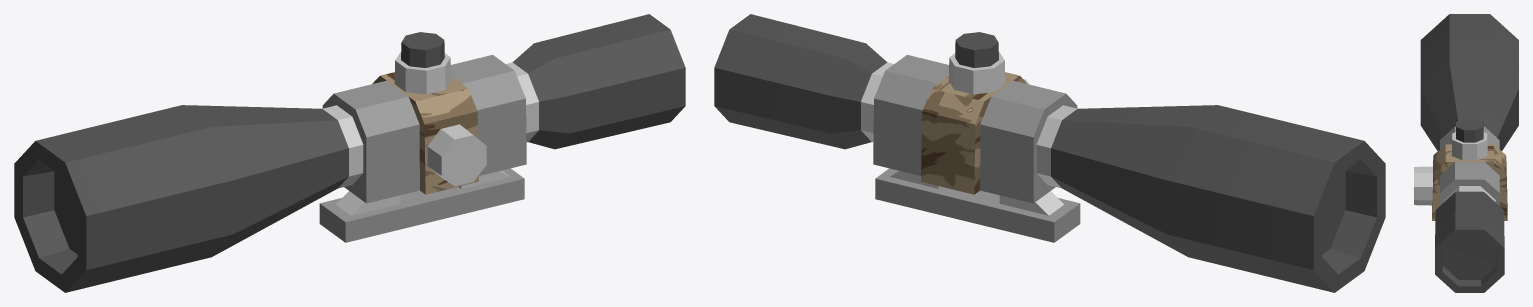
Rendered from SM_ScopeA.fbx.
3 views of the same model, side by side, from view 1: azimuth 30°, elevation 25°; view 2: azimuth 150°, elevation 25°; view 3: azimuth 270°, elevation 25° (orthographic). The views are drawn at different scales.
Parts seen in each view (by area): view 1: SM_ScopeA; view 2: SM_ScopeA; view 3: SM_ScopeA.
Part boxes in pixels (x1=…): SM_ScopeA: x1=14, y1=14, x2=685, y2=292; SM_ScopeA: x1=714, y1=14, x2=1385, y2=292; SM_ScopeA: x1=1414, y1=14, x2=1518, y2=292.
Size of the model in its own units: 33.97 by 9.06 by 7.41.
